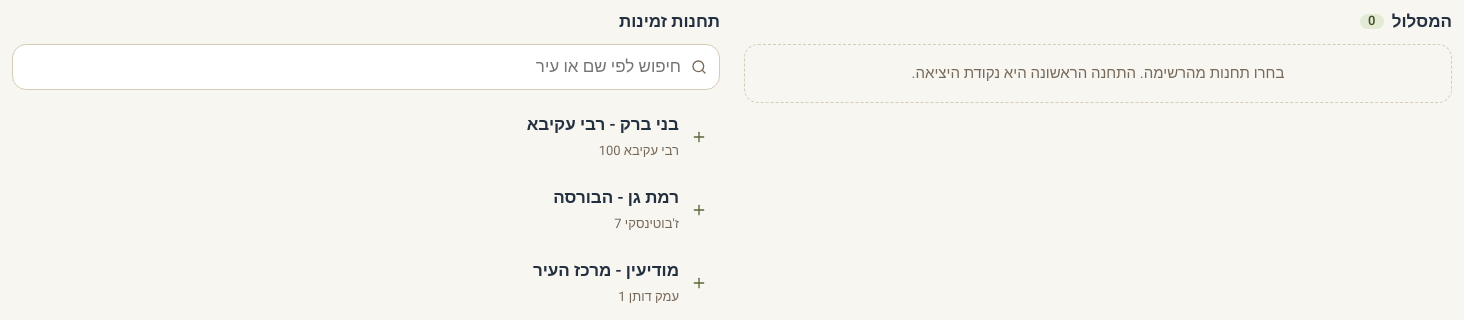
RouteBuilder › filters the available stops by city
In the search field named "חיפוש תחנה": (354, 67) [25,44,683,89], type "מודיעין"
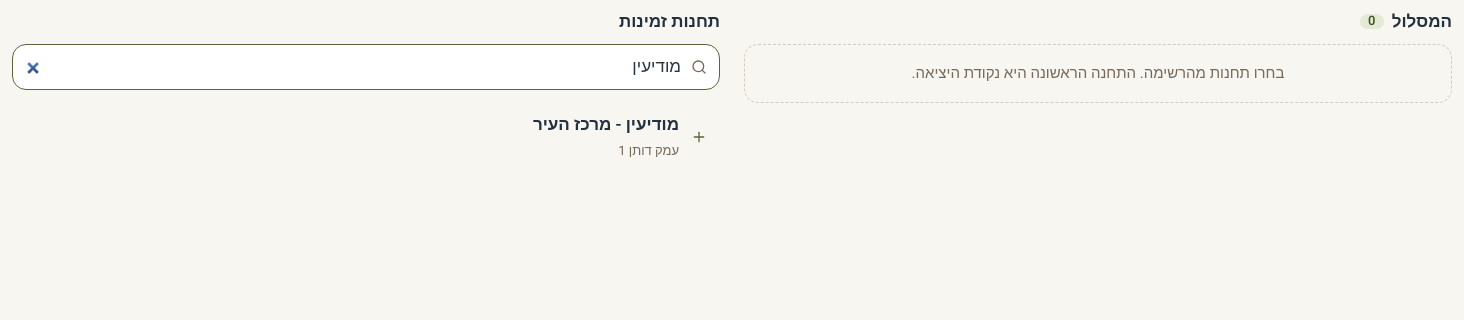
Expected: the number of buttons is 1, [12,102,720,171]
